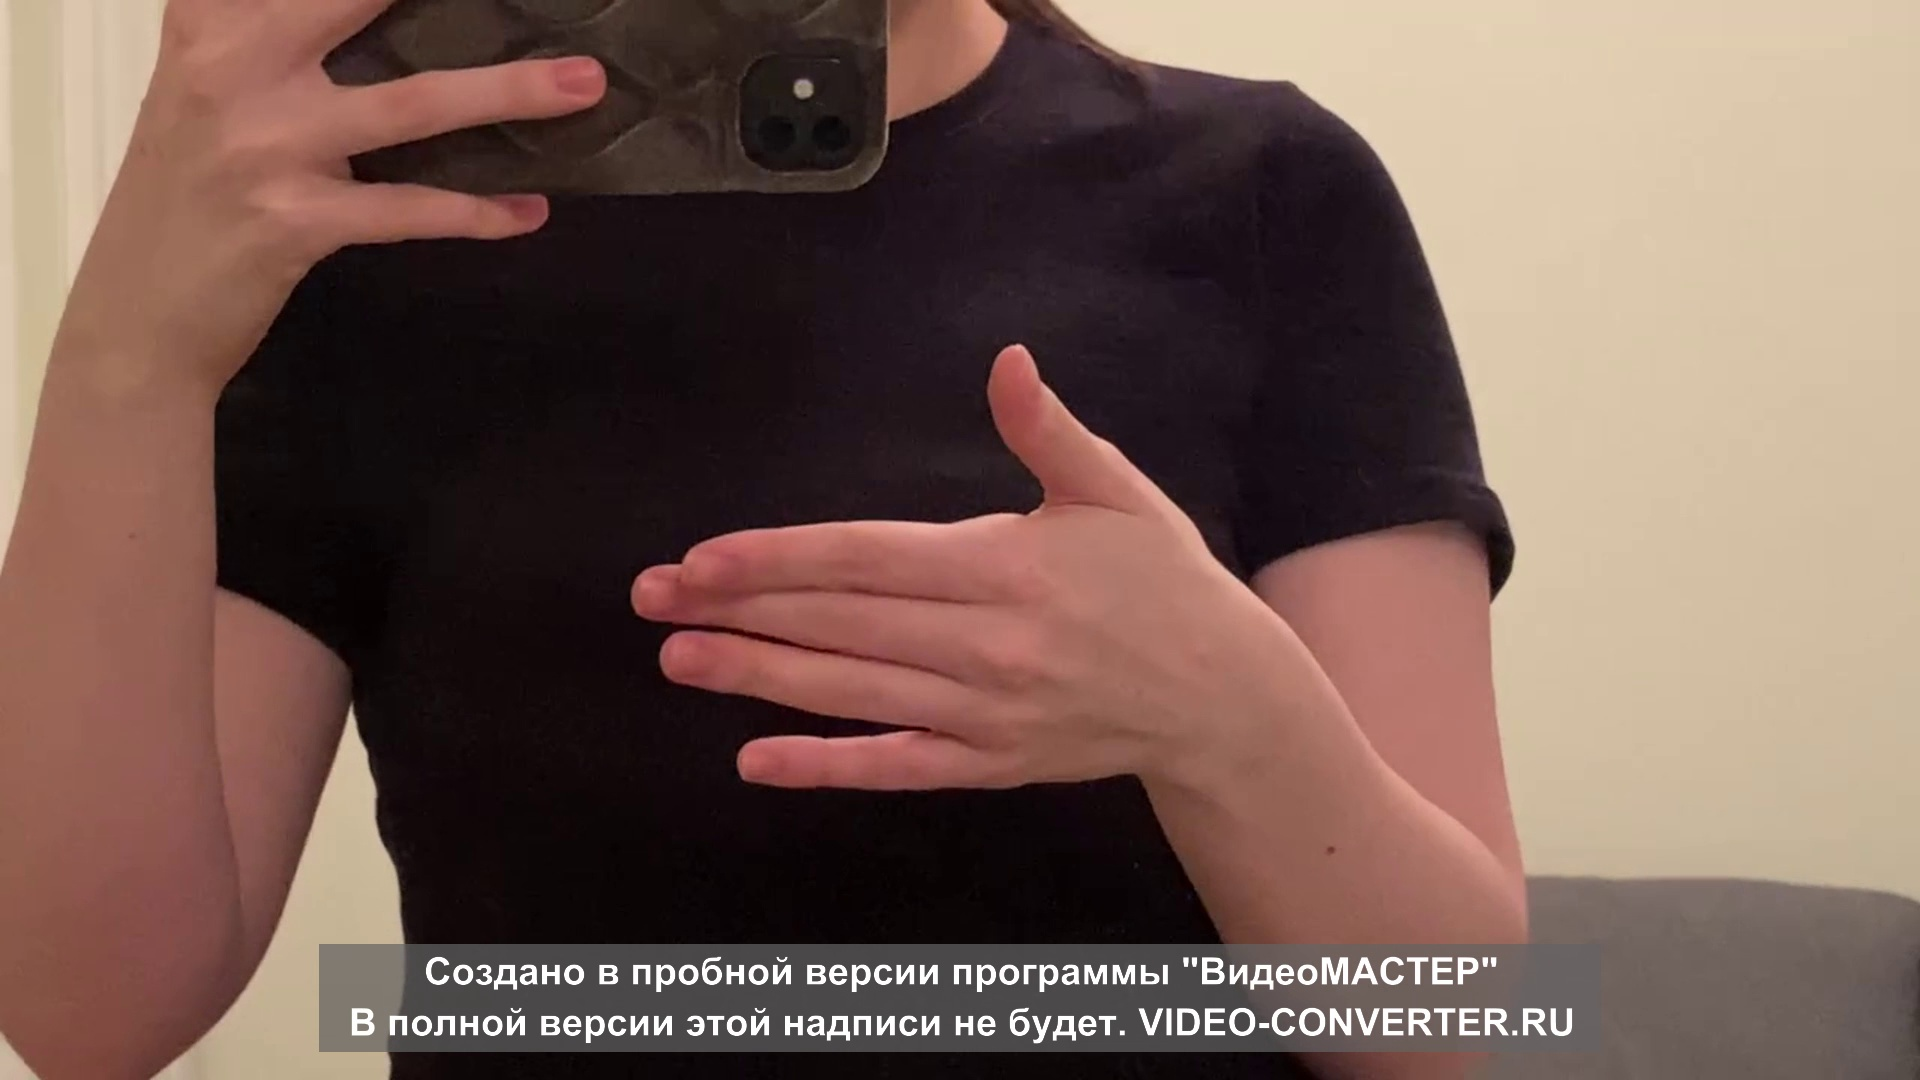Кисть: (629, 342, 1226, 789)
